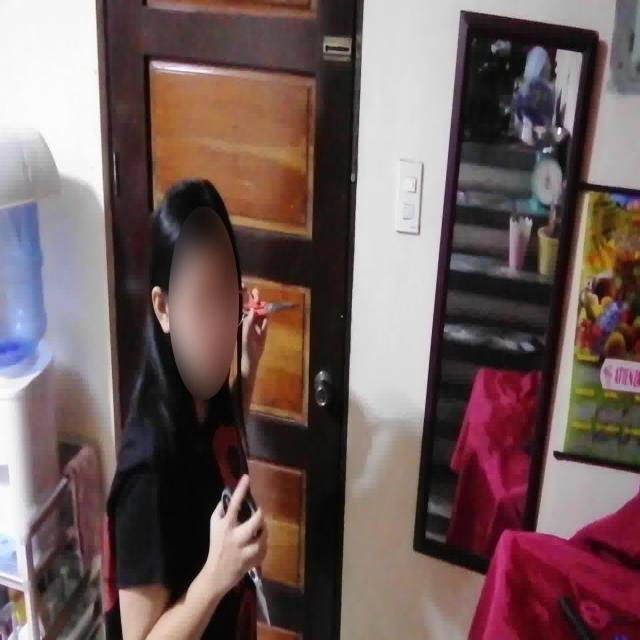scissor: (222, 486, 272, 630), (241, 284, 300, 324)
